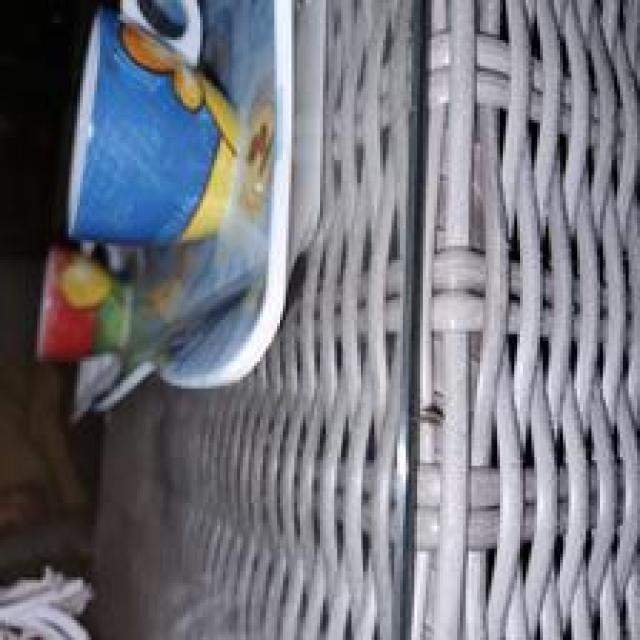Culex: (33, 0, 296, 423)
